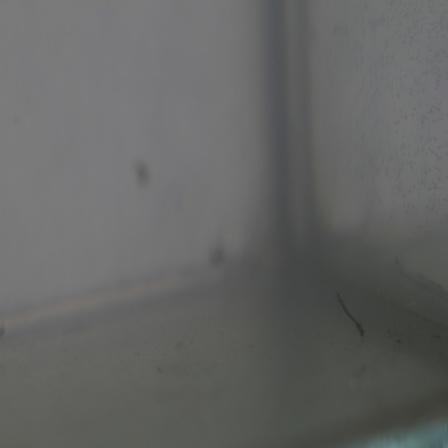Jentik-Nyamuk: (333, 289, 370, 341)
